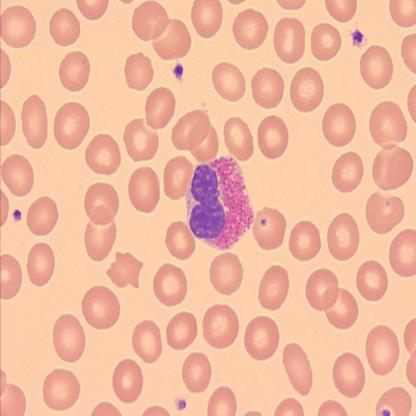Eosinophil: (187, 154, 251, 252)
